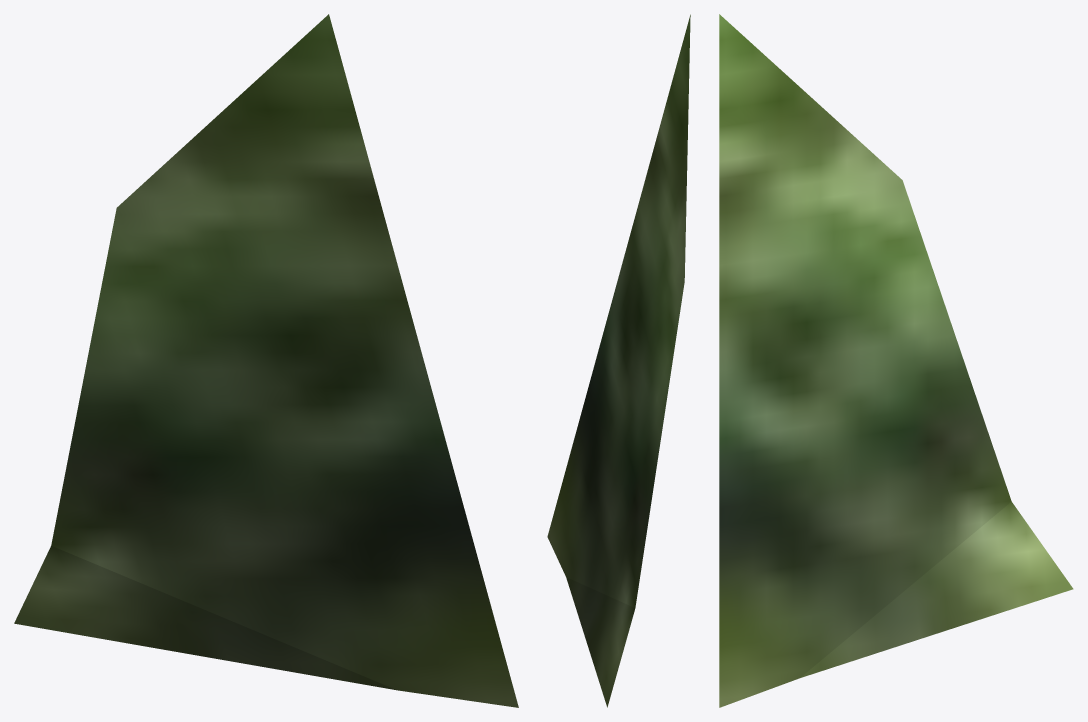
3 renders of one model, left to right at view 1: azimuth 30°, elevation 25°; view 2: azimuth 150°, elevation 25°; view 3: azimuth 270°, elevation 25°, orthographic. The views are drawn at different scales.
Size of the model in its own units: 1.6 by 3.86 by 2.01.
1 material, 1 textured.
